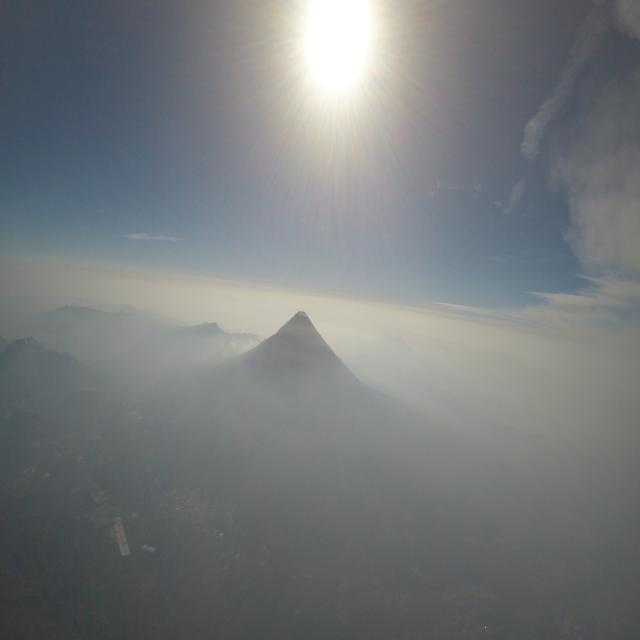Plume: (506, 0, 640, 297)
